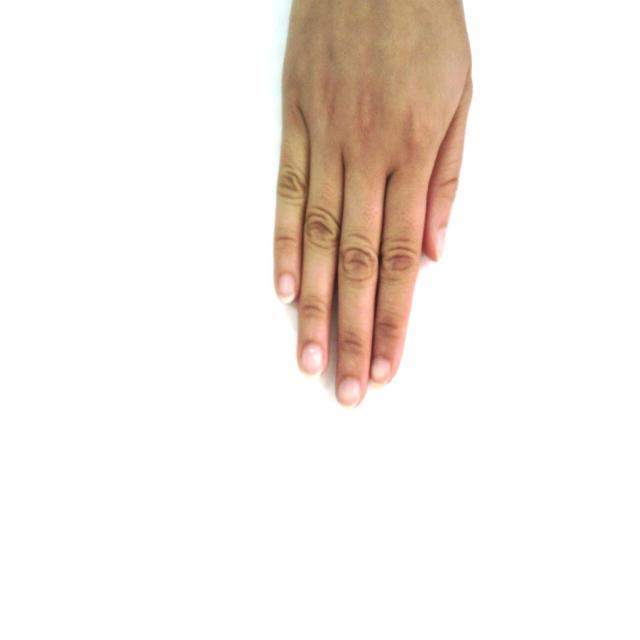Fingernail: (302, 345, 323, 374), (339, 378, 360, 406), (279, 274, 295, 303), (372, 358, 389, 382), (439, 227, 447, 250)
